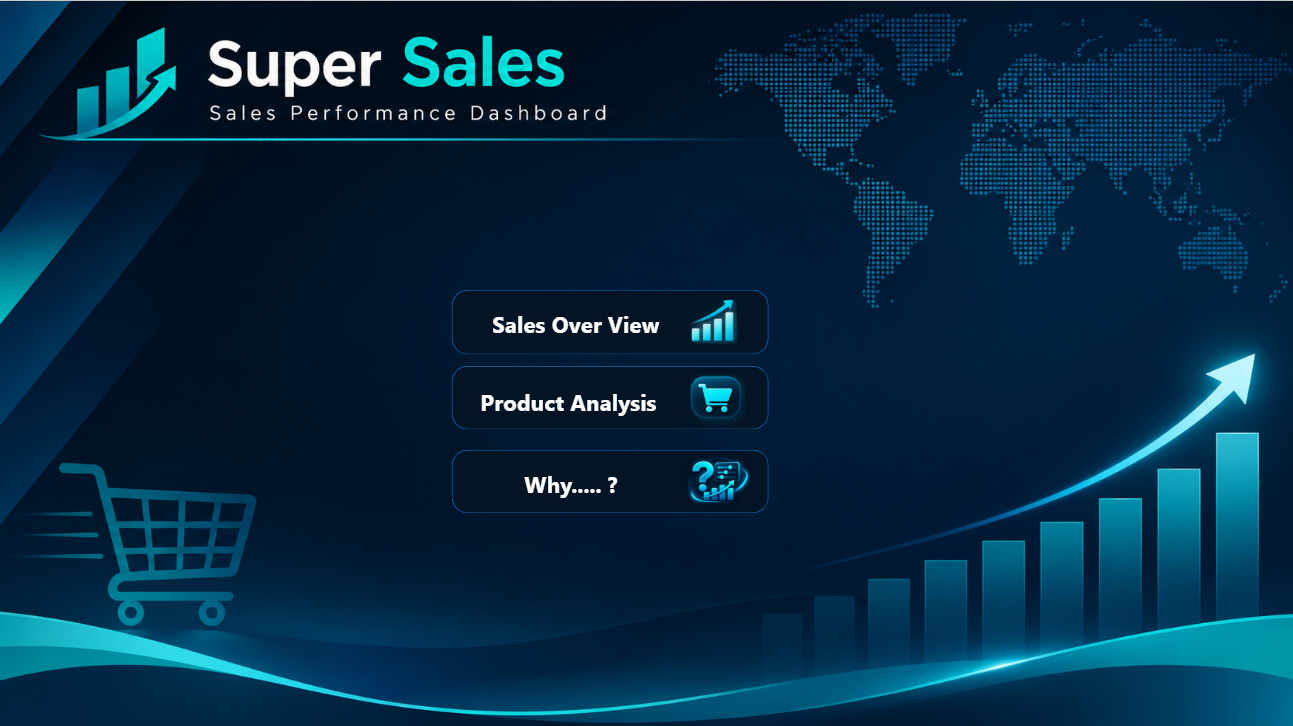

This screenshot's page, from the dashboard's own definition file:
{"tool":"powerbi","page":{"name":"Page 1","canvas":[1920,1080],"ordinal":0},"visuals":[{"type":"shape","box":[671.8,427,469.3,95.7],"z":0},{"type":"actionButton","box":[692,449.1,327.3,51.5],"z":1000},{"type":"shape","box":[671.8,541.1,469.3,93.9],"z":2000},{"type":"actionButton","box":[681.6,565.6,327.3,51.5],"z":3000},{"type":"shape","box":[671.8,664.4,469.3,93.9],"z":4000},{"type":"actionButton","box":[684.9,687.4,327.3,51.5],"z":5000},{"type":"image","box":[1004.9,439.9,106.7,68.1],"z":6000},{"type":"image","box":[1004.9,554,119.6,73.6],"z":7000},{"type":"image","box":[1008.6,668.1,114.1,88.3],"z":8000}]}

Visuals, with their boxes in screenshot pixels (x1, y1, x2, y2), scaled from the page's 1920x1080 canvas onto the 1293x726 screenshot:
shape: locate(452, 287, 768, 351)
actionButton: locate(466, 302, 686, 337)
shape: locate(452, 364, 768, 427)
actionButton: locate(459, 380, 679, 415)
shape: locate(452, 447, 768, 510)
actionButton: locate(461, 462, 682, 497)
image: locate(677, 296, 749, 341)
image: locate(677, 372, 757, 422)
image: locate(679, 449, 756, 508)
